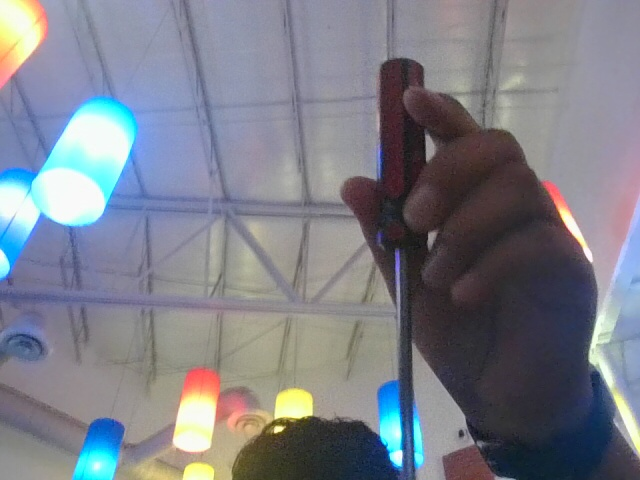destornillador: (377, 55, 428, 480)
